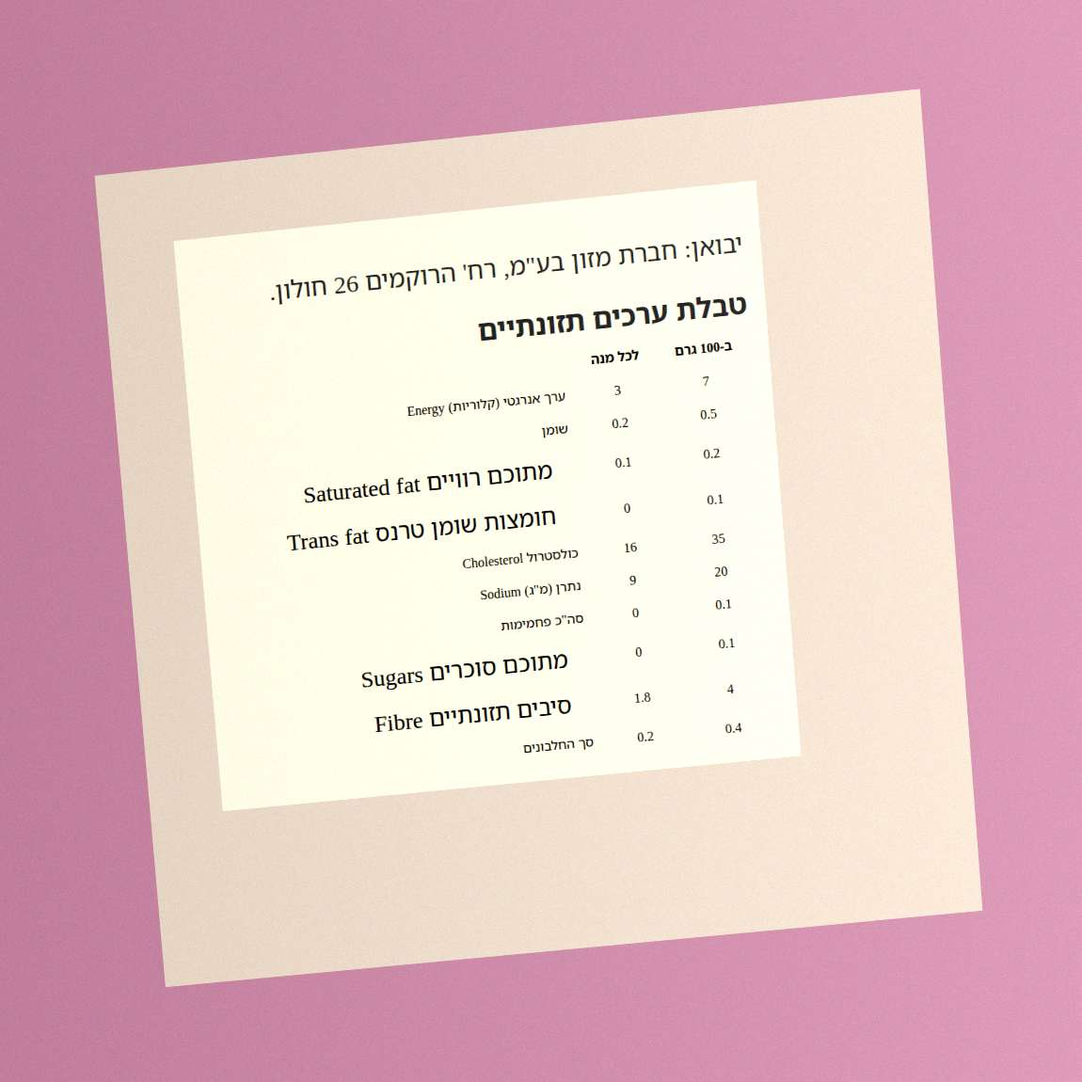carbs: (712, 592, 735, 616)
energy: (700, 369, 712, 392)
fat: (697, 401, 720, 426)
protein: (722, 716, 745, 740)
